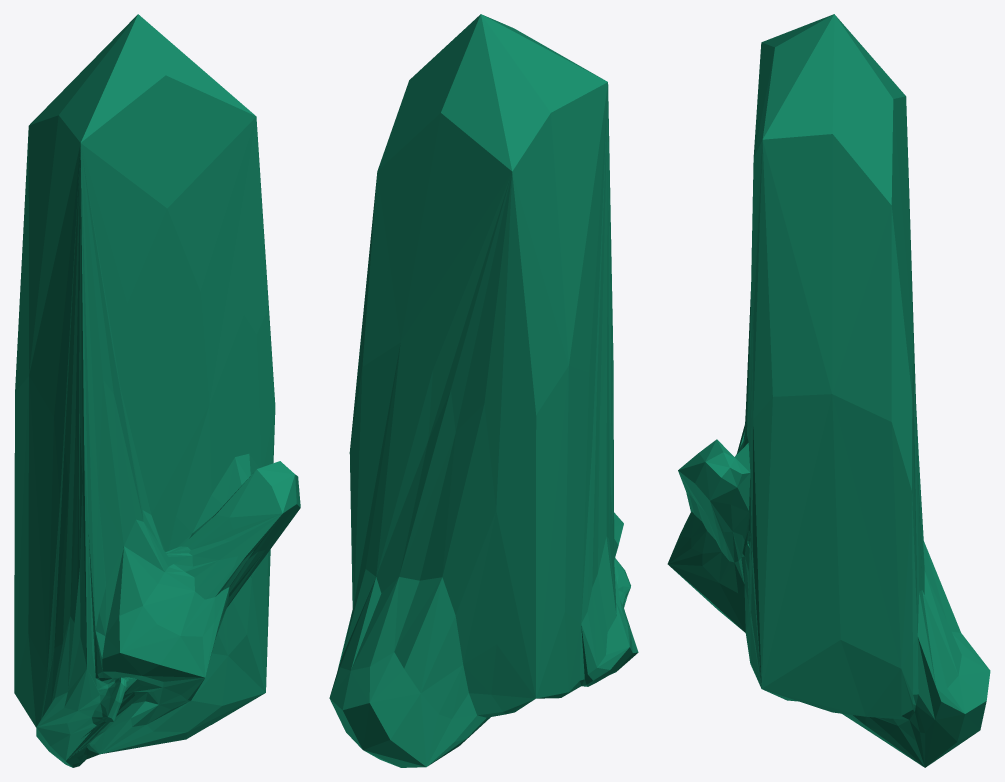
3 views of the same model, side by side, from view 1: azimuth 30°, elevation 25°; view 2: azimuth 150°, elevation 25°; view 3: azimuth 270°, elevation 25° (orthographic). The views are drawn at different scales.
Parts seen in each view (by area): view 1: 965_Cube.3903; view 2: 965_Cube.3903; view 3: 965_Cube.3903.
Boxes of the visible parts, x1,y1,x2,y2 form: 965_Cube.3903: [14, 14, 300, 767]; 965_Cube.3903: [329, 14, 638, 767]; 965_Cube.3903: [667, 14, 990, 767].
Bounding box in the file's own units: 4.26 × 13.57 × 5.46.
